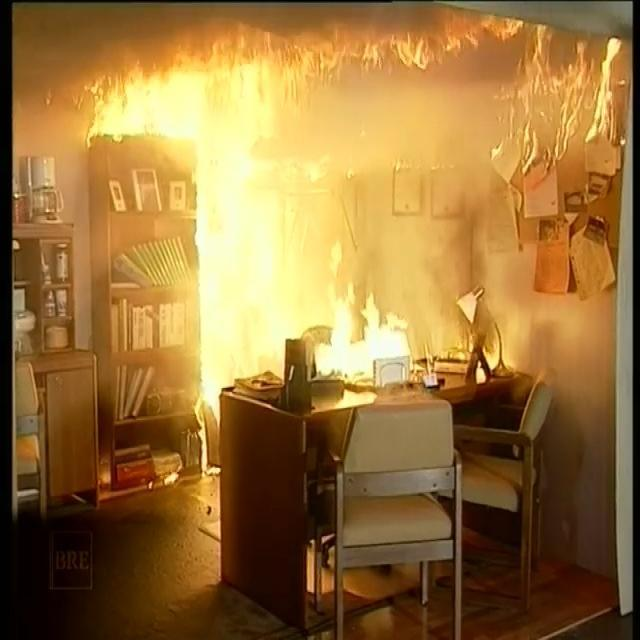Fire: (97, 7, 474, 122), (506, 20, 632, 160), (326, 243, 408, 370)
